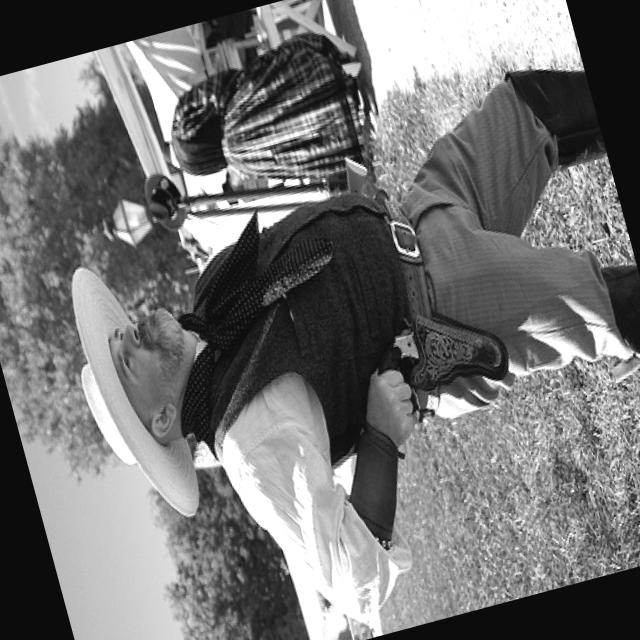handgun: (358, 294, 512, 422)
